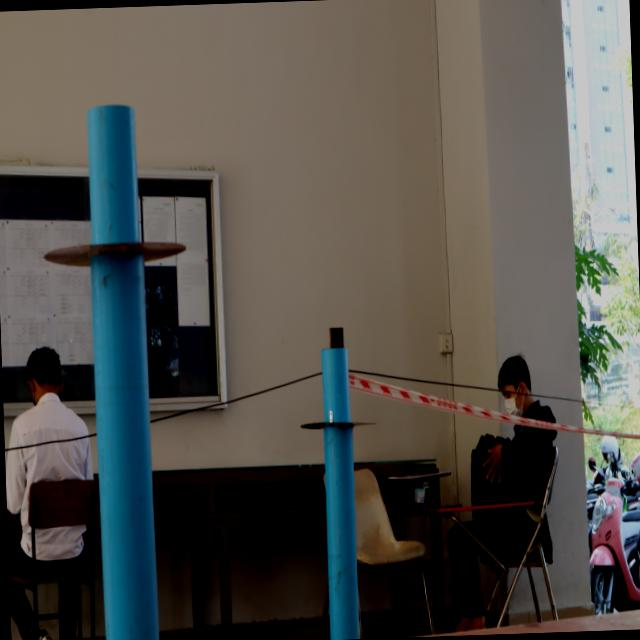pole: (31, 92, 190, 360), (290, 333, 385, 532)
